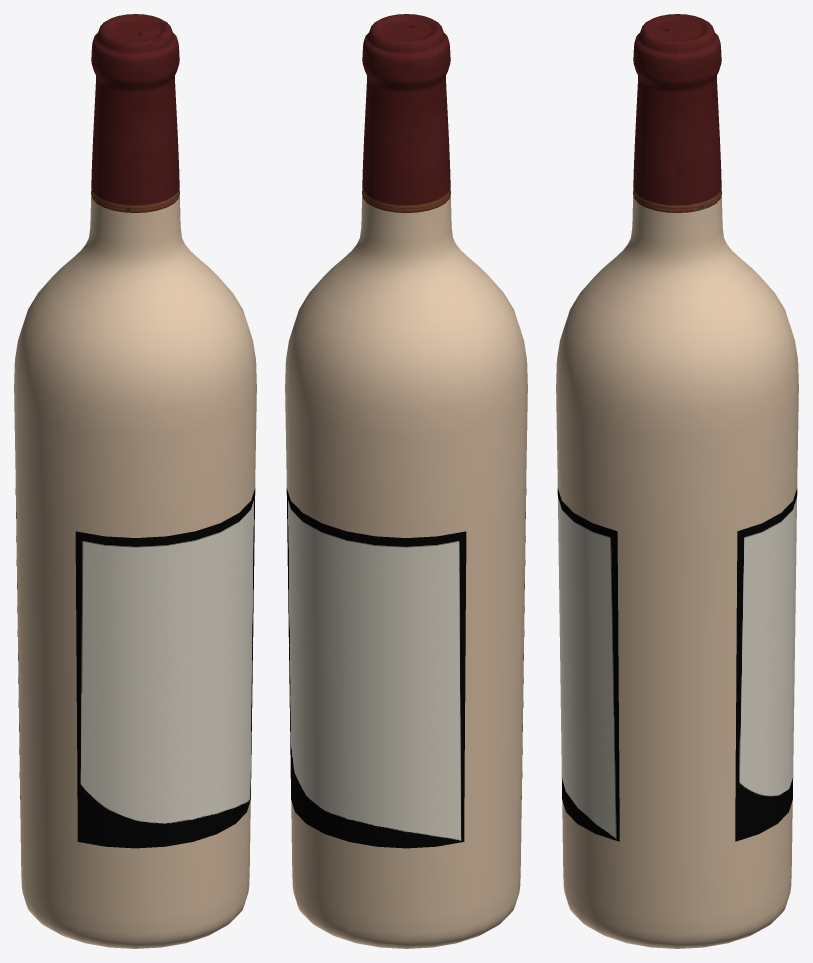
The model's file is vino-tinto-botella.glb.
The picture shows the model from 3 angles, left to right: view 1: azimuth 30°, elevation 25°; view 2: azimuth 150°, elevation 25°; view 3: azimuth 270°, elevation 25°; orthographic projection.
Visible parts, largest first — view 1: wine_bottles_01_bordeaux; view 2: wine_bottles_01_bordeaux; view 3: wine_bottles_01_bordeaux.
Part boxes in pixels (left/top/right/bottom): wine_bottles_01_bordeaux: left=14, top=14, right=256, bottom=948; wine_bottles_01_bordeaux: left=285, top=14, right=527, bottom=948; wine_bottles_01_bordeaux: left=556, top=14, right=798, bottom=948.
Size of the model in its own units: 0.0745 by 0.298 by 0.0745.
Materials: 4 (3 with a texture image).
